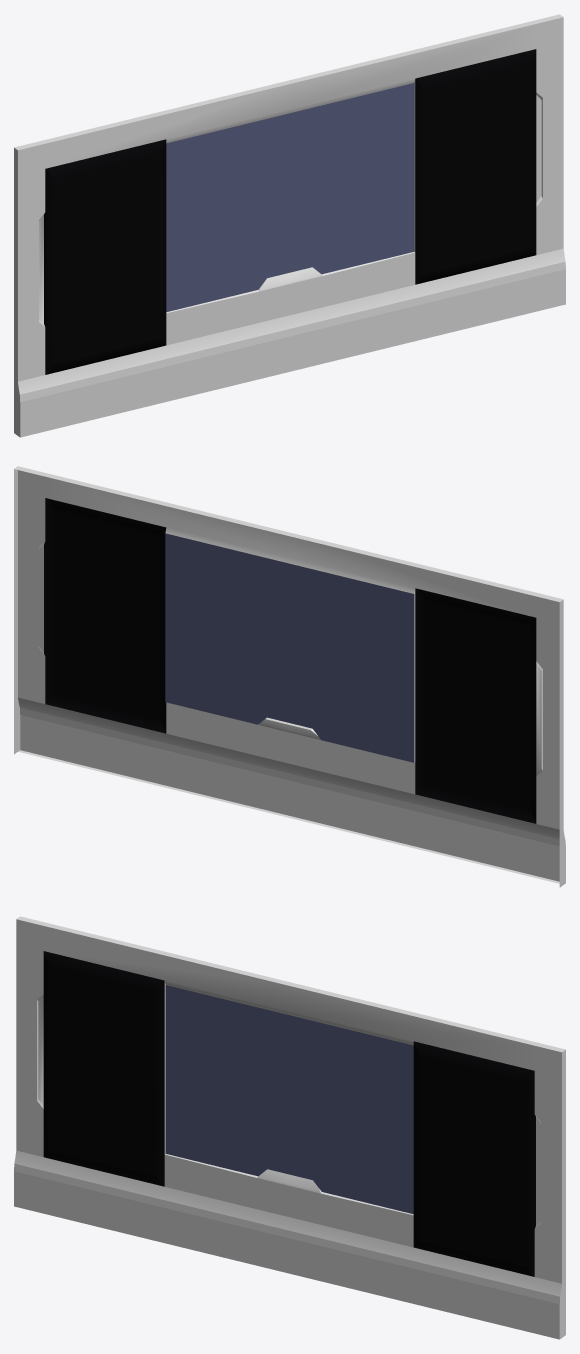
The model's file is WallFancy8x4.glb.
The picture shows the model from 3 angles, top to bottom: view 1: azimuth 30°, elevation 25°; view 2: azimuth 150°, elevation 25°; view 3: azimuth 330°, elevation 25°; orthographic projection.
Visible parts, largest first — view 1: WallFancy8x4, WallFancy8x4.001, WallFancy8x4.002; view 2: WallFancy8x4, WallFancy8x4.001, WallFancy8x4.002; view 3: WallFancy8x4, WallFancy8x4.001, WallFancy8x4.002.
Boxes of the visible parts, x1=… form: WallFancy8x4: x1=14, y1=14, x2=565, y2=437; WallFancy8x4.001: x1=44, y1=49, x2=536, y2=374; WallFancy8x4.002: x1=166, y1=83, x2=414, y2=312; WallFancy8x4: x1=14, y1=466, x2=565, y2=887; WallFancy8x4.001: x1=44, y1=498, x2=536, y2=823; WallFancy8x4.002: x1=165, y1=533, x2=414, y2=762; WallFancy8x4: x1=14, y1=916, x2=565, y2=1339; WallFancy8x4.001: x1=43, y1=951, x2=535, y2=1276; WallFancy8x4.002: x1=165, y1=985, x2=413, y2=1214.
Size of the model in its own units: 8 by 4 by 0.1571.
